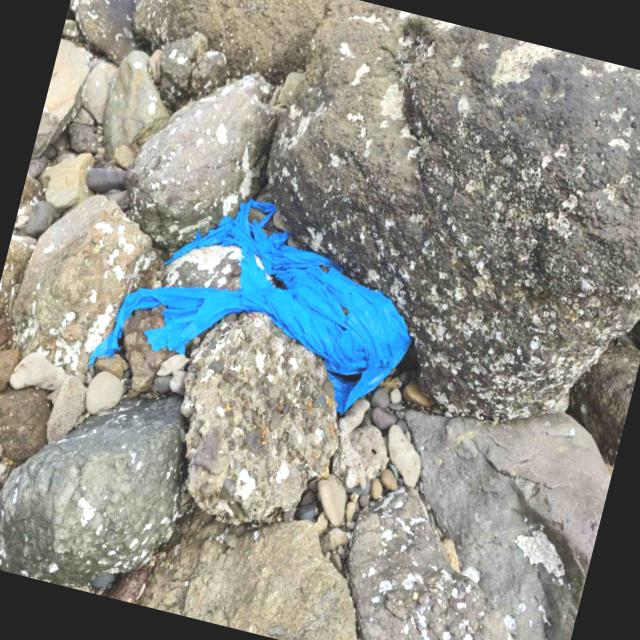nhua: (89, 199, 410, 413)
